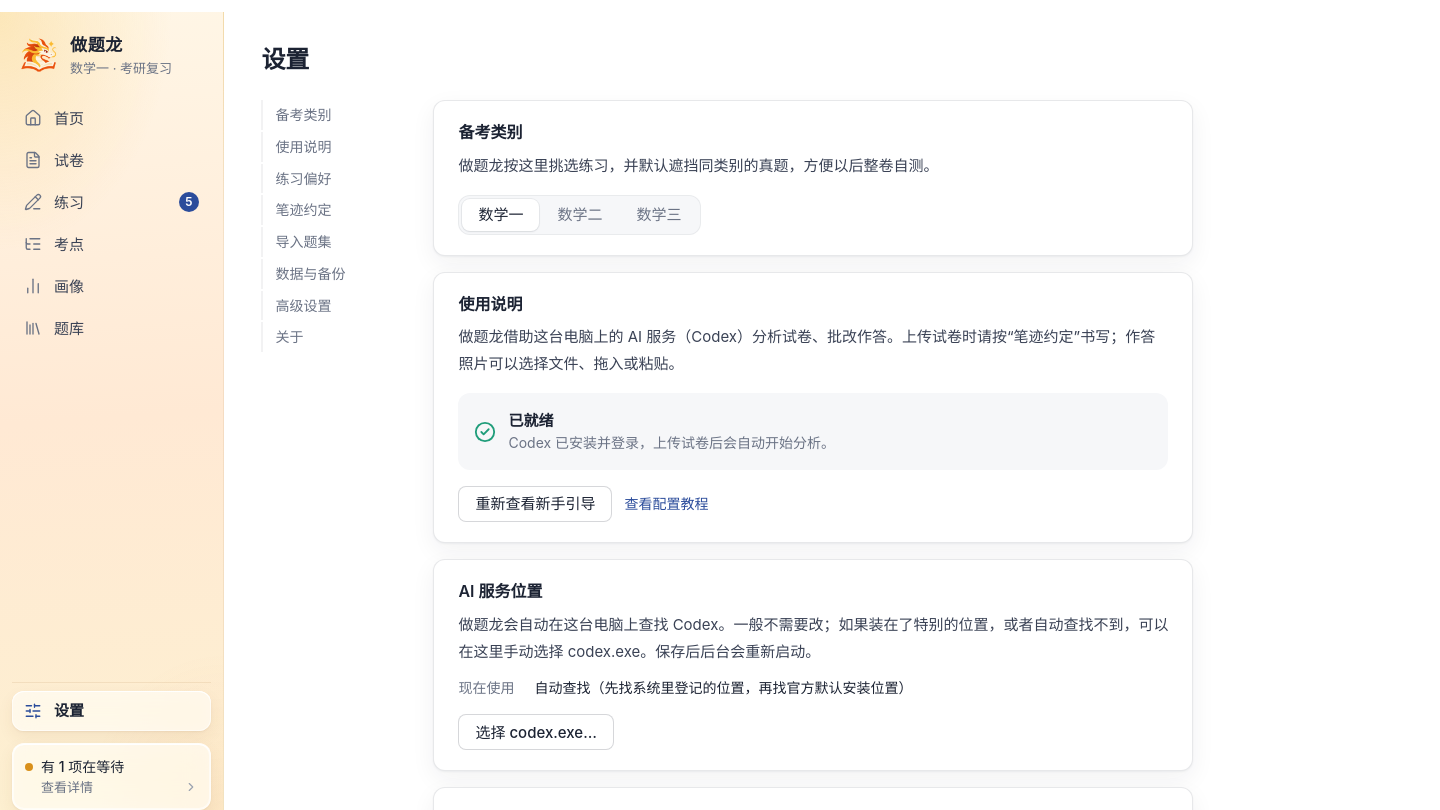
asks to pick again when the pick expired
Step 1. Click the button "选择 codex.exe…" → {"x": 536, "y": 732}, box [458,714,614,750]
(page scrolled)
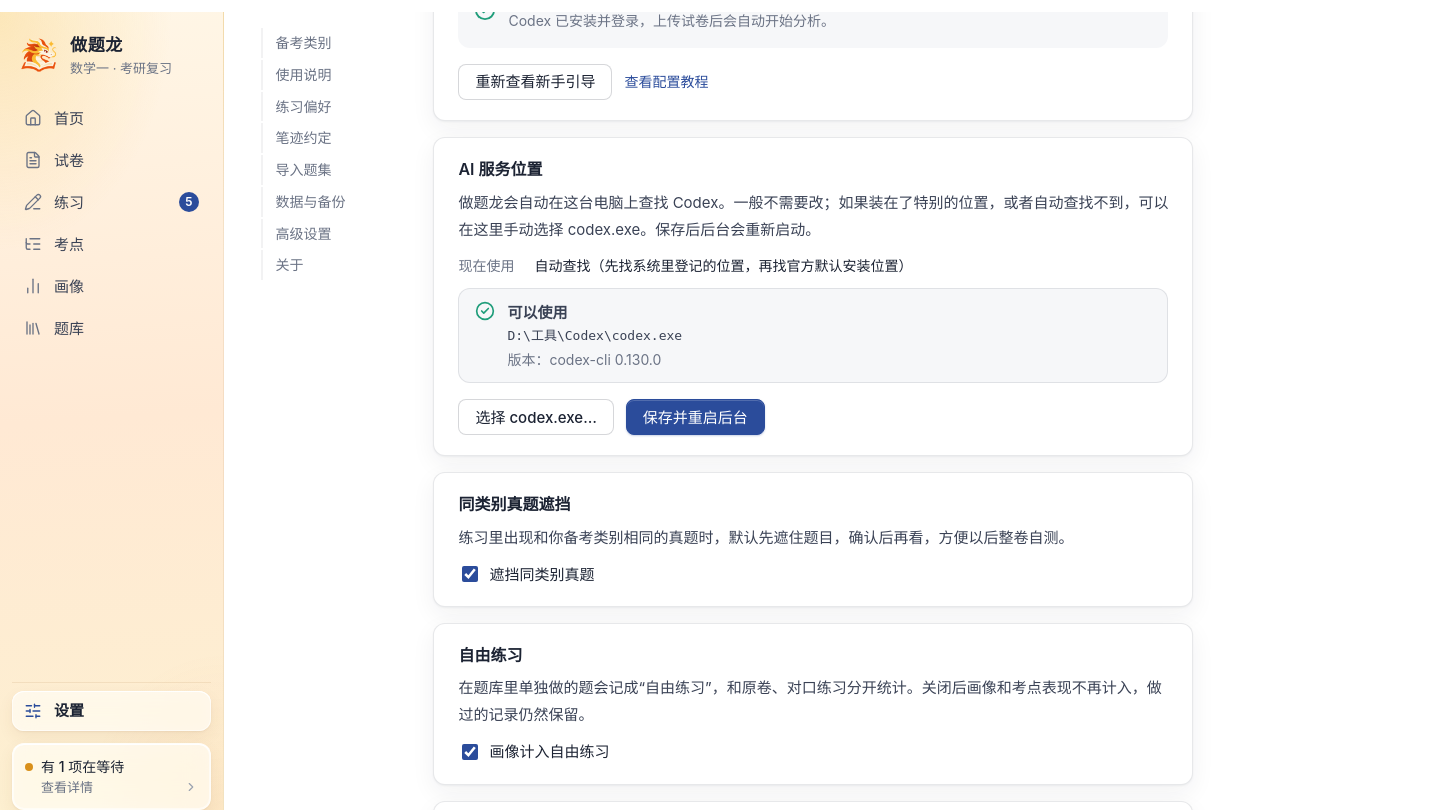
Step 2. Click the button "保存并重启后台" → {"x": 695, "y": 417}, box [626,399,765,435]
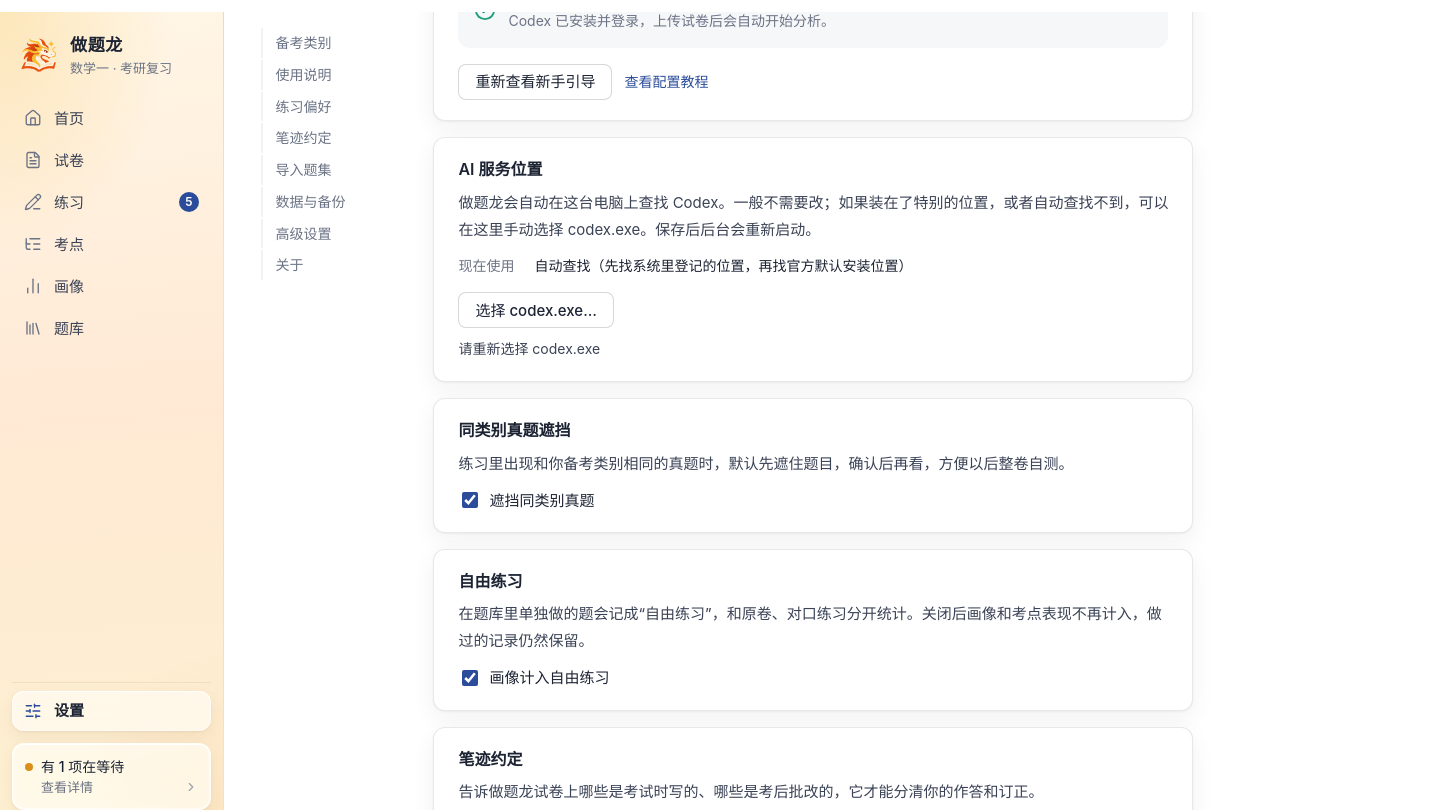
Now the text "请重新选择 codex.exe" is shown, box [458,340,600,357]
Now the message "选择结果" is gone
